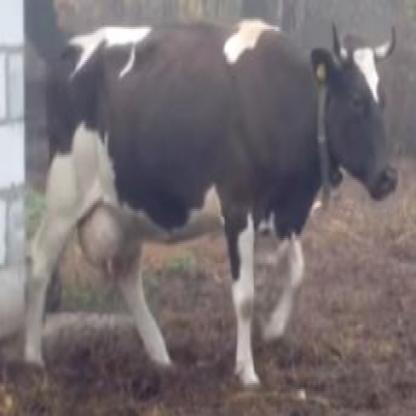cow: (25, 26, 398, 388)
